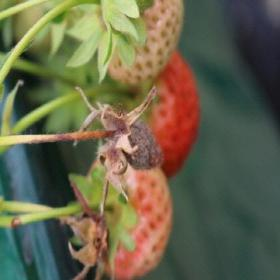Gray Mold: (76, 86, 165, 199)
